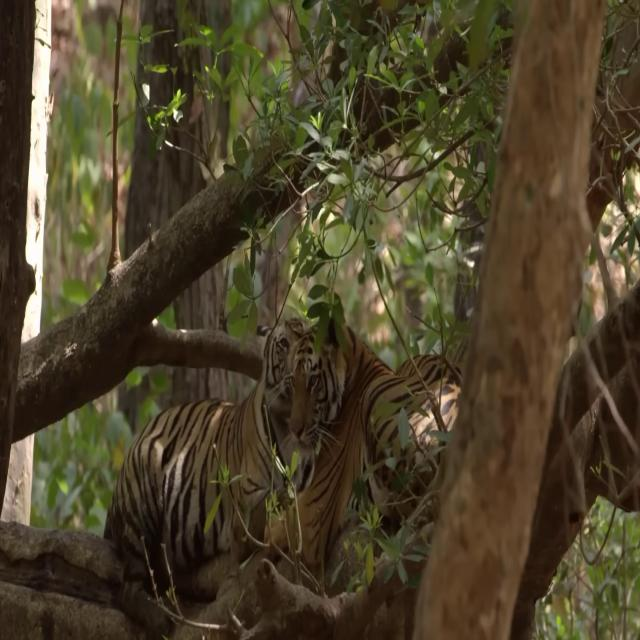tiger: (104, 316, 306, 636), (264, 313, 462, 567)
